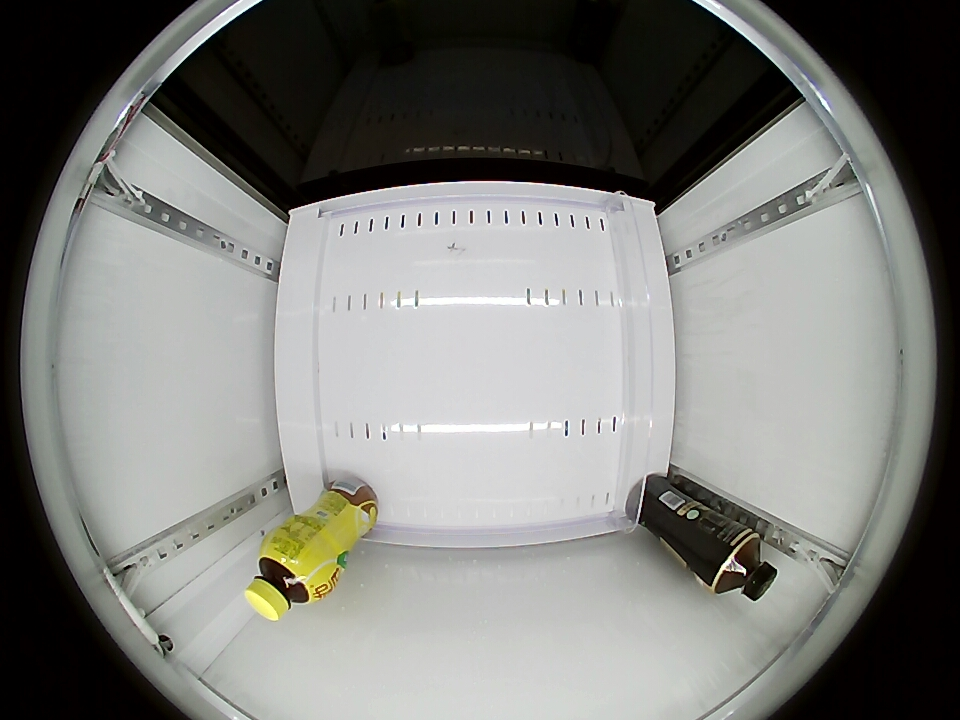rancha-1: (709, 528, 778, 602)
weitaningmeng-bottle: (245, 533, 332, 621)
